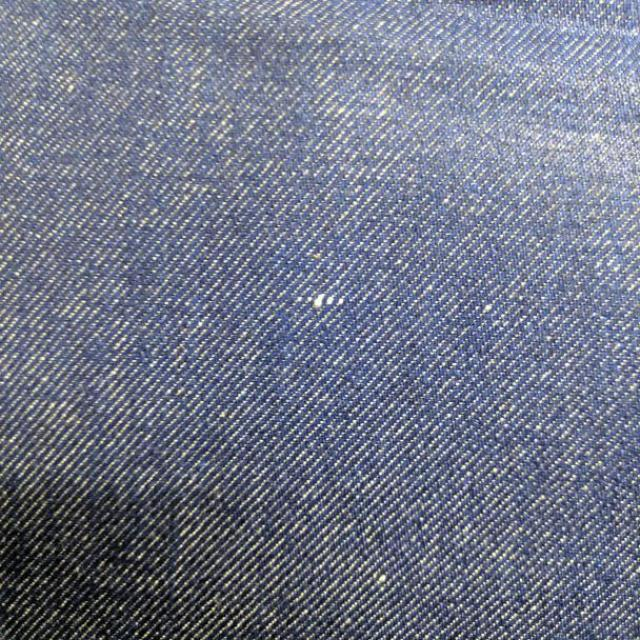Knot: (295, 293, 345, 310)
